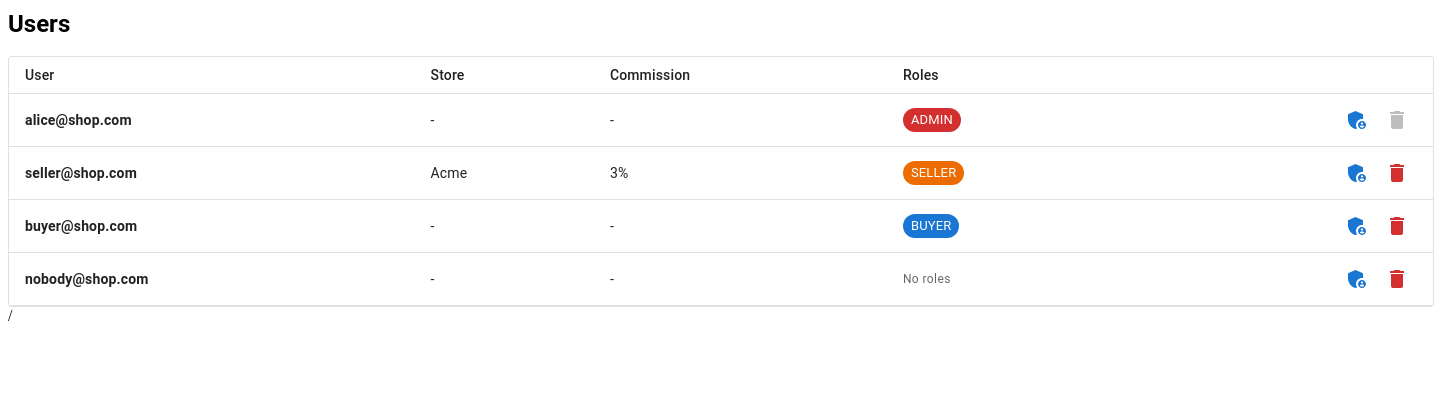
Test: AdminUsers › explains why a user cannot be deleted
Click the button named "Delete buyer@shop.com" at (1397, 226), box x1=1377 y1=206 x2=1417 y2=246
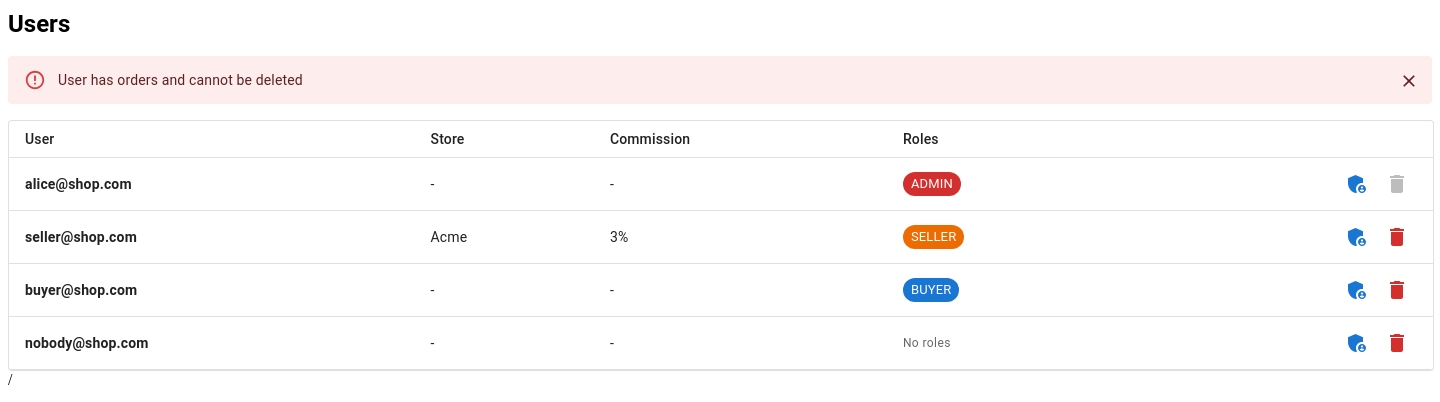
Expected: the text "User has orders and cannot be deleted" is shown, x1=58 y1=72 x2=303 y2=88
